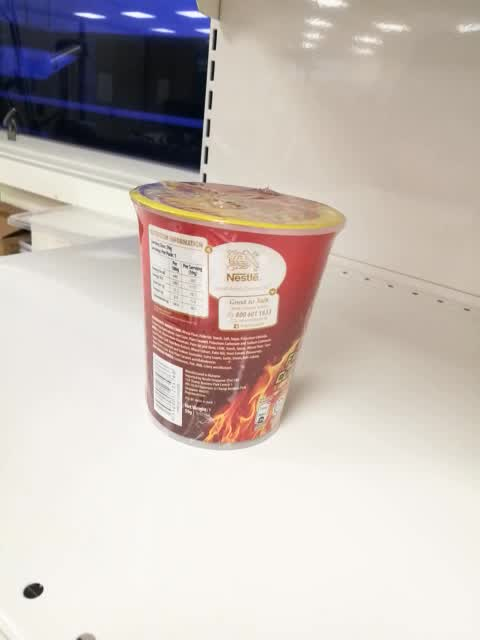maggi: (127, 179, 348, 450)
